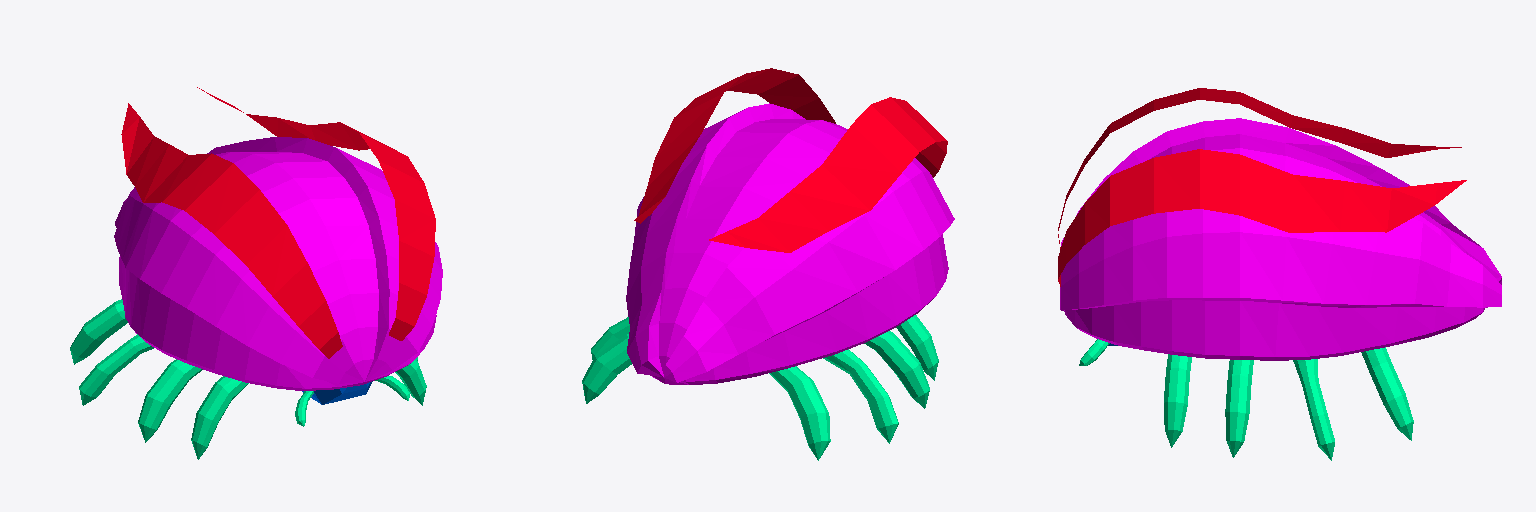
The picture shows the model from 3 angles: view 1: azimuth 30°, elevation 25°; view 2: azimuth 150°, elevation 25°; view 3: azimuth 270°, elevation 25°; orthographic projection.
Visible parts, largest first — view 1: group1_pCylinder1; view 2: group1_pCylinder1; view 3: group1_pCylinder1.
Part boxes in pixels (left/top/right/bottom): group1_pCylinder1: left=70, top=87, right=442, bottom=459; group1_pCylinder1: left=582, top=68, right=954, bottom=460; group1_pCylinder1: left=1058, top=88, right=1501, bottom=460.
Size of the model in its own units: 15.91 by 13.63 by 19.94.
1 materials, 1 textured.